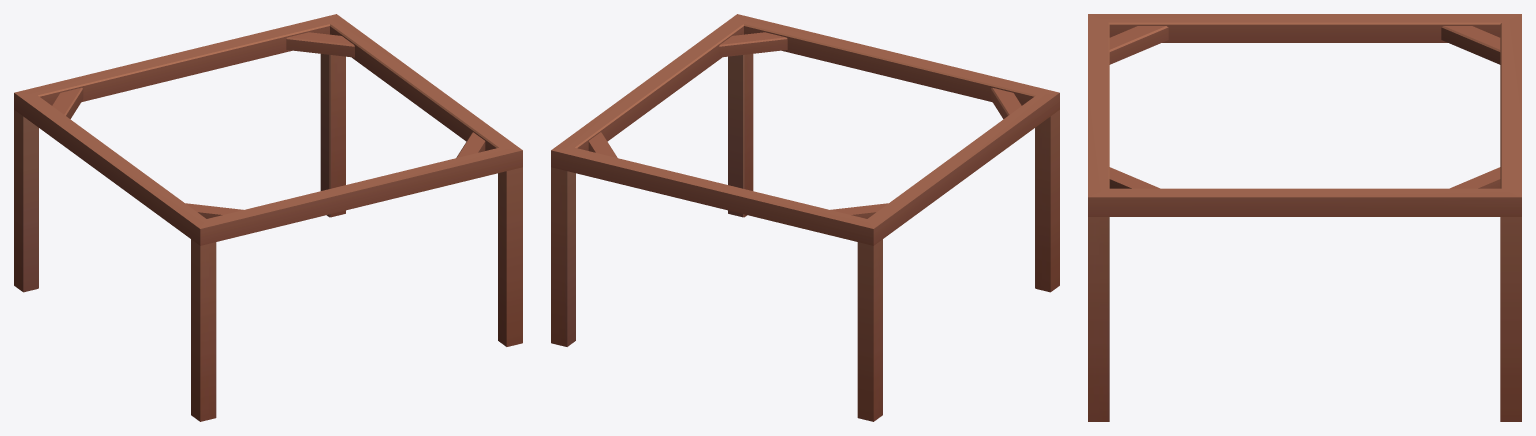
Rendered from scaffold_frame_large.glb.
3 renders of one model, left to right at view 1: azimuth 30°, elevation 25°; view 2: azimuth 150°, elevation 25°; view 3: azimuth 270°, elevation 25°, orthographic. The views are drawn at different scales.
Visible parts, largest first — view 1: scaffold_frame_large; view 2: scaffold_frame_large; view 3: scaffold_frame_large.
Part boxes in pixels (x1=…): scaffold_frame_large: x1=14, y1=14, x2=522, y2=421; scaffold_frame_large: x1=551, y1=14, x2=1059, y2=421; scaffold_frame_large: x1=1088, y1=14, x2=1521, y2=421.
Size of the model in its own units: 7 by 4 by 7.
1 material, 1 textured.
